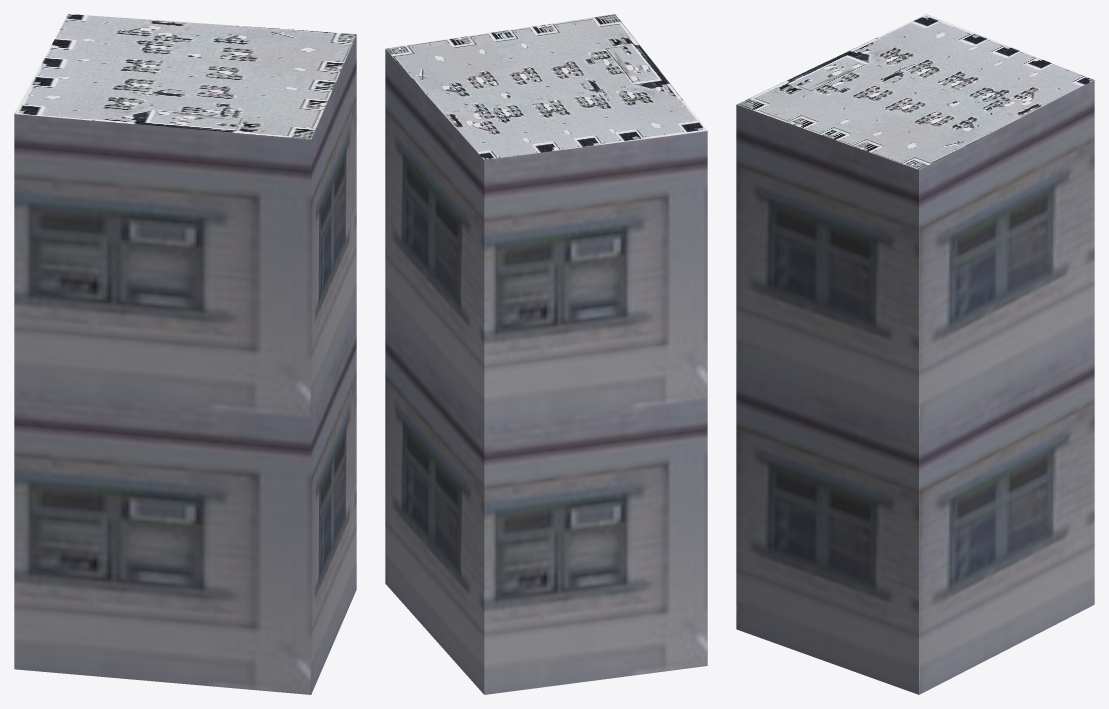
The model's file is ResTex__3058.fbx.
The picture shows the model from 3 angles, left to right: view 1: azimuth 30°, elevation 25°; view 2: azimuth 150°, elevation 25°; view 3: azimuth 270°, elevation 25°; orthographic projection. The views are drawn at different scales.
Visible parts, largest first — view 1: CityEngineMaterial_1_m, CityEngineMaterial_4_m; view 2: CityEngineMaterial_1_m, CityEngineMaterial_4_m; view 3: CityEngineMaterial_1_m, CityEngineMaterial_4_m.
Boxes of the visible parts, x1,y1,x2,y2 form: CityEngineMaterial_1_m: (14,35,356,694); CityEngineMaterial_4_m: (14,14,356,139); CityEngineMaterial_1_m: (385,49,707,694); CityEngineMaterial_4_m: (385,14,707,159); CityEngineMaterial_1_m: (736,80,1094,694); CityEngineMaterial_4_m: (737,14,1093,169).
Bounding box in the file's own units: 3.83 × 6 × 3.71.
2 materials, 2 textured.
